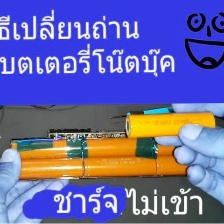battery: (121, 109, 219, 143), (3, 156, 87, 183), (79, 153, 158, 181), (3, 135, 85, 161), (153, 153, 223, 178), (78, 136, 157, 157)
